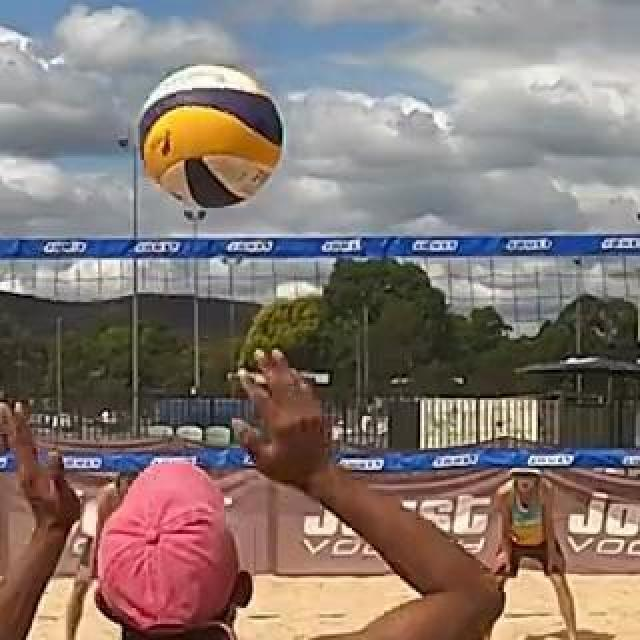volleyball: (140, 64, 284, 208)
